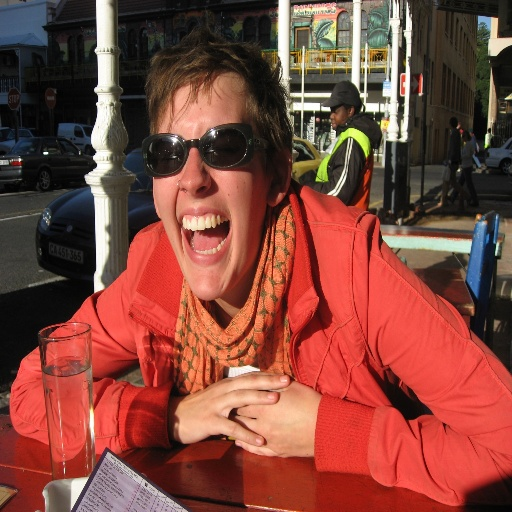hand: (173, 369, 291, 447), (227, 380, 320, 459)
